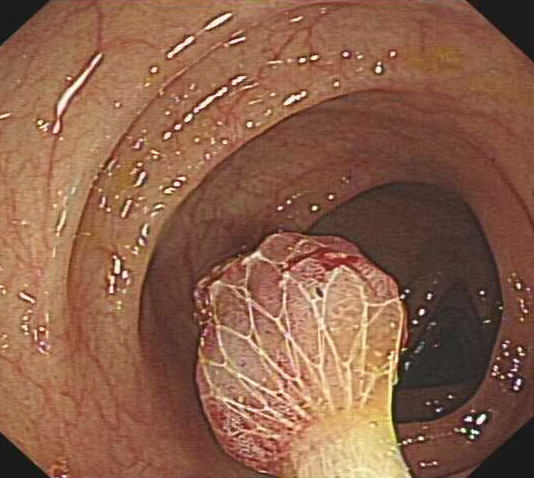adenoma: (189, 228, 410, 478)
